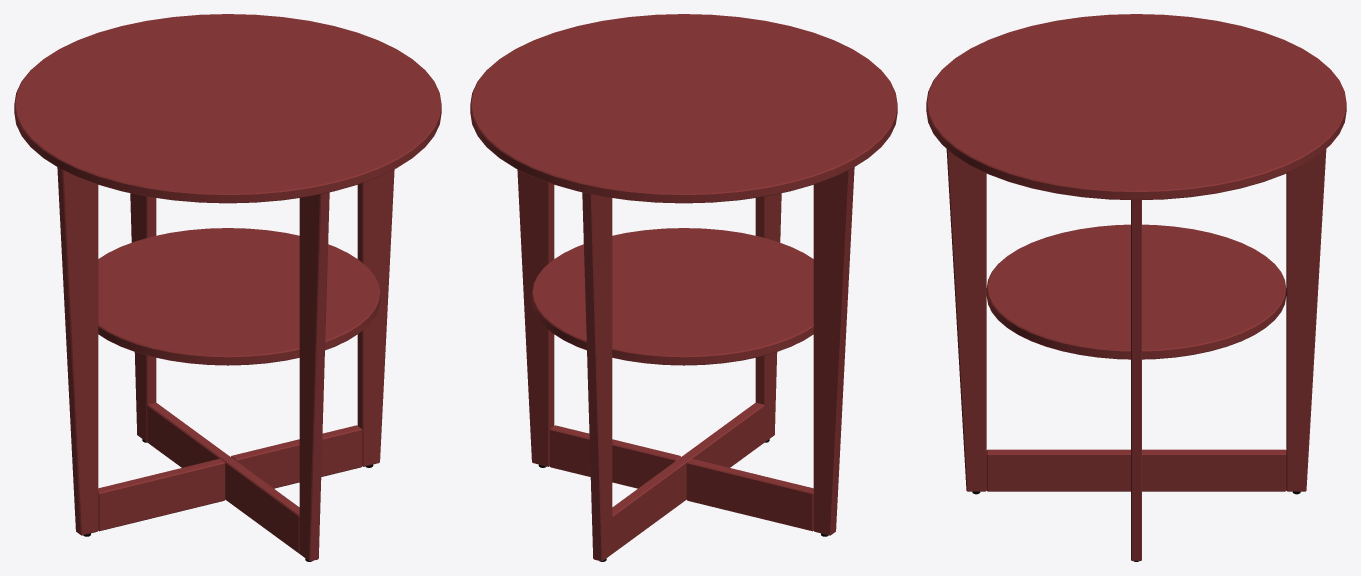
The model's file is VeymonFBX.FBX.
The picture shows the model from 3 angles, left to right: view 1: azimuth 30°, elevation 25°; view 2: azimuth 150°, elevation 25°; view 3: azimuth 270°, elevation 25°; orthographic projection.
Visible parts, largest first — view 1: Cylinder001, Cylinder002, Box001, Box004, Box003, Box005, Box007, Box006, Box002; view 2: Cylinder001, Cylinder002, Box001, Box002, Box003, Box005, Box007, Box006, Box004; view 3: Cylinder001, Cylinder002, Box005, Box004, Box002, Box003.
Part boxes in pixels (<box>): Cylinder001: <box>14,14,441,203</box>; Cylinder002: <box>98,228,380,365</box>; Box001: <box>57,167,98,535</box>; Box004: <box>299,192,329,561</box>; Box003: <box>357,169,394,466</box>; Box005: <box>147,402,299,553</box>; Box007: <box>98,458,225,531</box>; Box006: <box>231,425,362,488</box>; Box002: <box>130,193,156,441</box>; Cylinder001: <box>470,14,897,203</box>; Cylinder002: <box>531,228,813,365</box>; Box001: <box>813,167,854,535</box>; Box002: <box>582,192,612,561</box>; Box003: <box>517,169,554,466</box>; Box005: <box>612,402,764,553</box>; Box007: <box>686,458,813,531</box>; Box006: <box>549,425,680,488</box>; Box004: <box>755,193,781,441</box>; Cylinder001: <box>926,14,1346,200</box>; Cylinder002: <box>986,224,1286,359</box>; Box005: <box>986,449,1286,491</box>; Box004: <box>946,149,986,491</box>; Box002: <box>1286,149,1326,491</box>; Box003: <box>1131,200,1141,560</box>.
Size of the model in its own units: 60 by 61.5 by 60.
